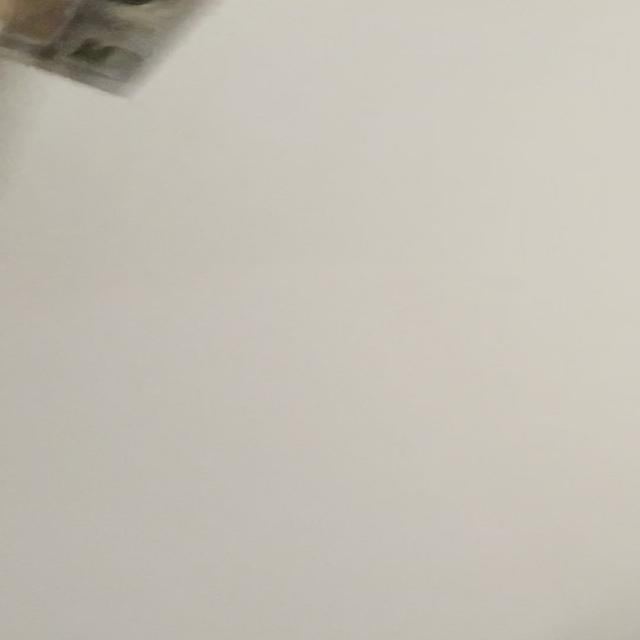hundred: (2, 0, 225, 100)
